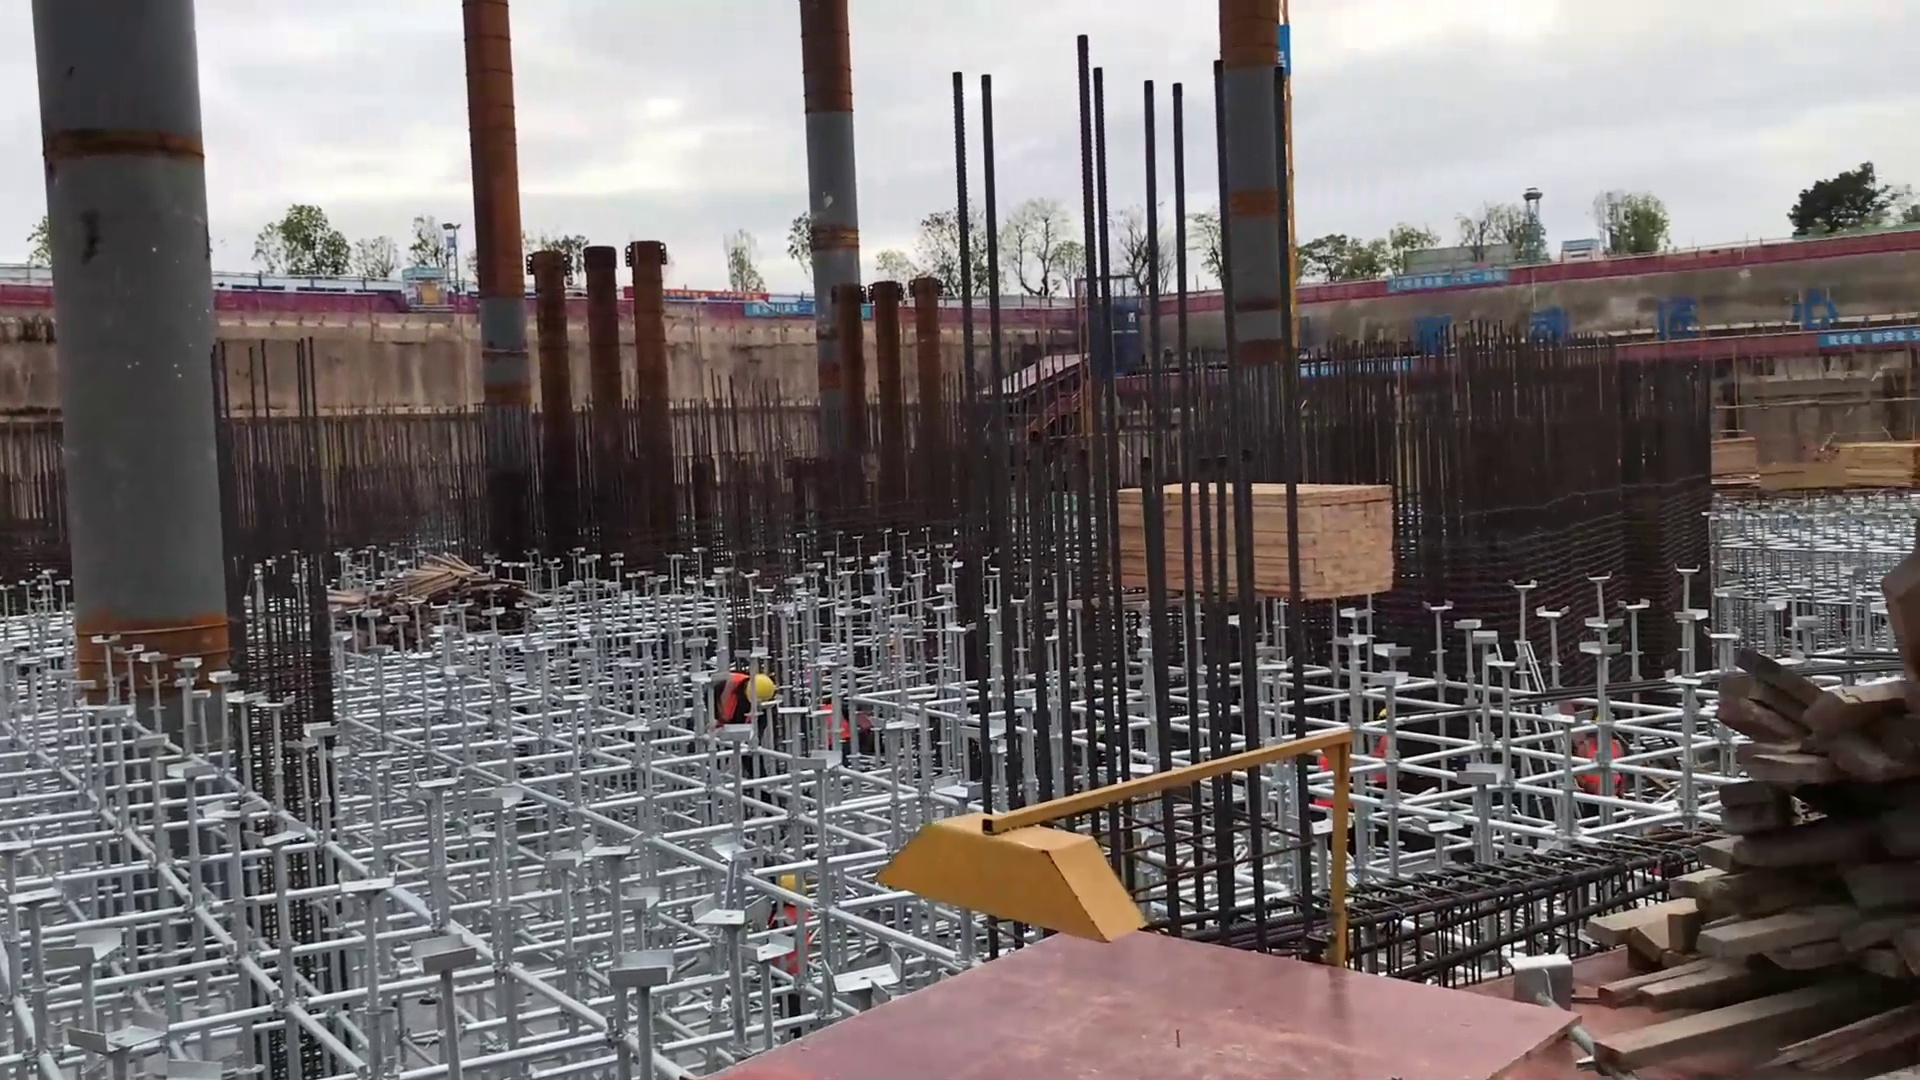helmet: (777, 861, 804, 902), (748, 674, 781, 704)
person: (1311, 720, 1365, 854), (1571, 711, 1631, 821), (707, 661, 765, 774), (764, 873, 805, 1031), (801, 686, 881, 759), (1372, 706, 1391, 841)
vest: (1320, 752, 1359, 827), (772, 901, 800, 978), (1583, 739, 1617, 794), (823, 708, 861, 750), (722, 683, 754, 729), (1376, 724, 1397, 784)
